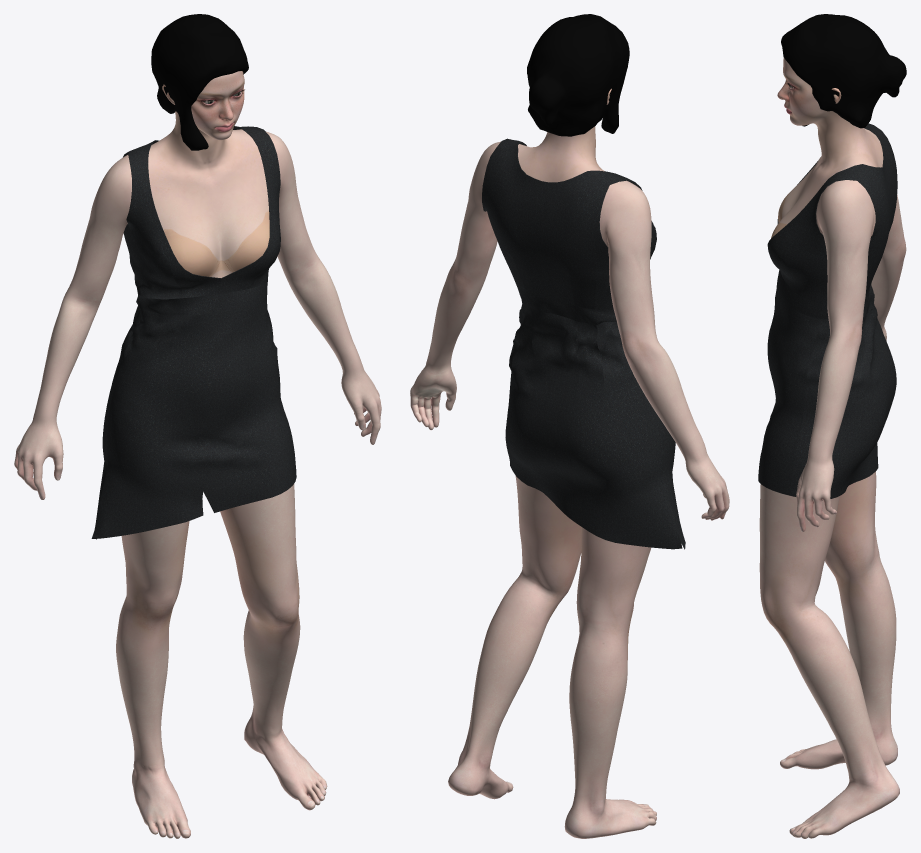
Rendered from Dramatic.obj.
3 views of the same model, side by side, from view 1: azimuth 30°, elevation 25°; view 2: azimuth 150°, elevation 25°; view 3: azimuth 270°, elevation 25° (orthographic). The views are drawn at different scales.
Size of the model in its own units: 775 by 1773 by 308.
